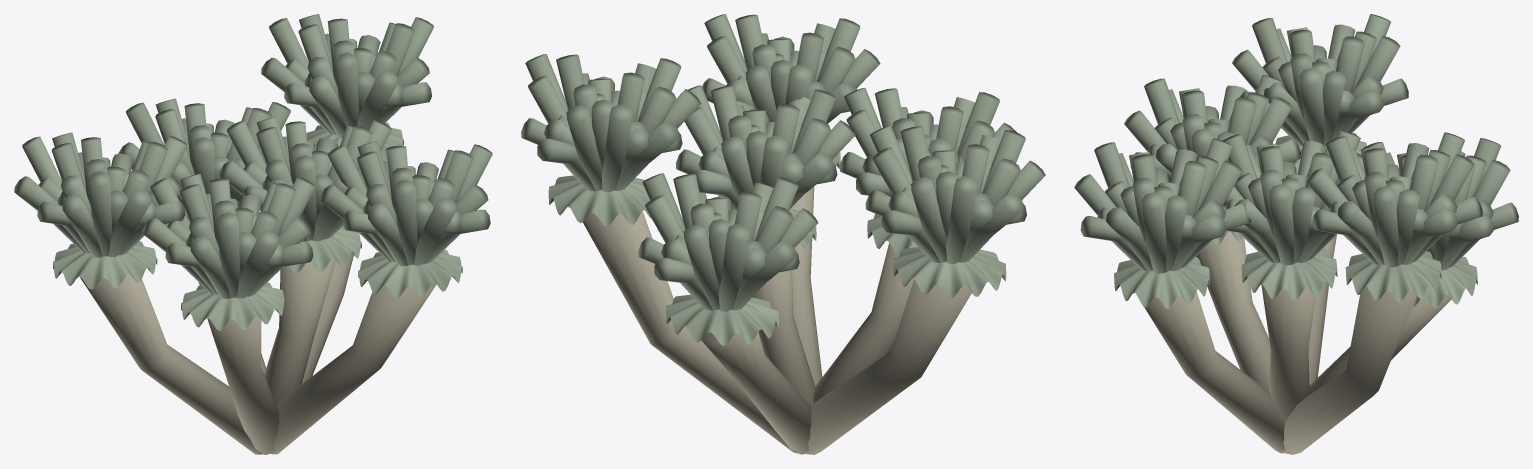
The model's file is duncan-desktop.glb.
The picture shows the model from 3 angles, left to right: view 1: azimuth 30°, elevation 25°; view 2: azimuth 150°, elevation 25°; view 3: azimuth 270°, elevation 25°; orthographic projection. The views are drawn at different scales.
Visible parts, largest first — view 1: fleshy-tentacle, branching-corallum; view 2: fleshy-tentacle, branching-corallum; view 3: fleshy-tentacle, branching-corallum.
Part boxes in pixels (bbox=[...]): fleshy-tentacle: bbox=[14, 14, 492, 330]; branching-corallum: bbox=[80, 232, 436, 454]; fleshy-tentacle: bbox=[521, 14, 1045, 345]; branching-corallum: bbox=[583, 186, 971, 454]; fleshy-tentacle: bbox=[1074, 14, 1518, 308]; branching-corallum: bbox=[1144, 232, 1451, 454].
Size of the model in its own units: 0.6071 by 0.4685 by 0.5174.
